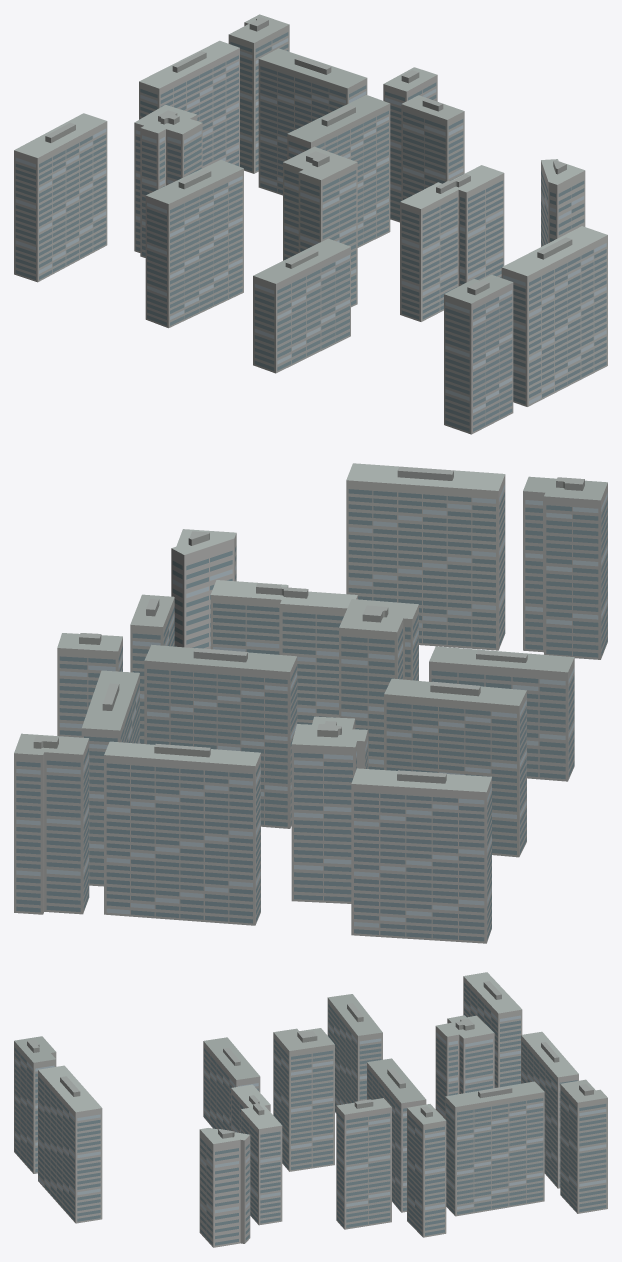
File: apt-a13570501.glb
3 renders of one model, top to bottom at view 1: azimuth 30°, elevation 25°; view 2: azimuth 150°, elevation 25°; view 3: azimuth 270°, elevation 25°, orthographic. The views are drawn at different scales.
Visible parts, largest first — view 1: apt-a13570501; view 2: apt-a13570501; view 3: apt-a13570501.
Boxes of the visible parts, x1=… form: apt-a13570501: x1=14, y1=14, x2=607, y2=434; apt-a13570501: x1=14, y1=463, x2=607, y2=943; apt-a13570501: x1=14, y1=972, x2=607, y2=1247.
Size of the model in its own units: 192 by 66 by 284.
